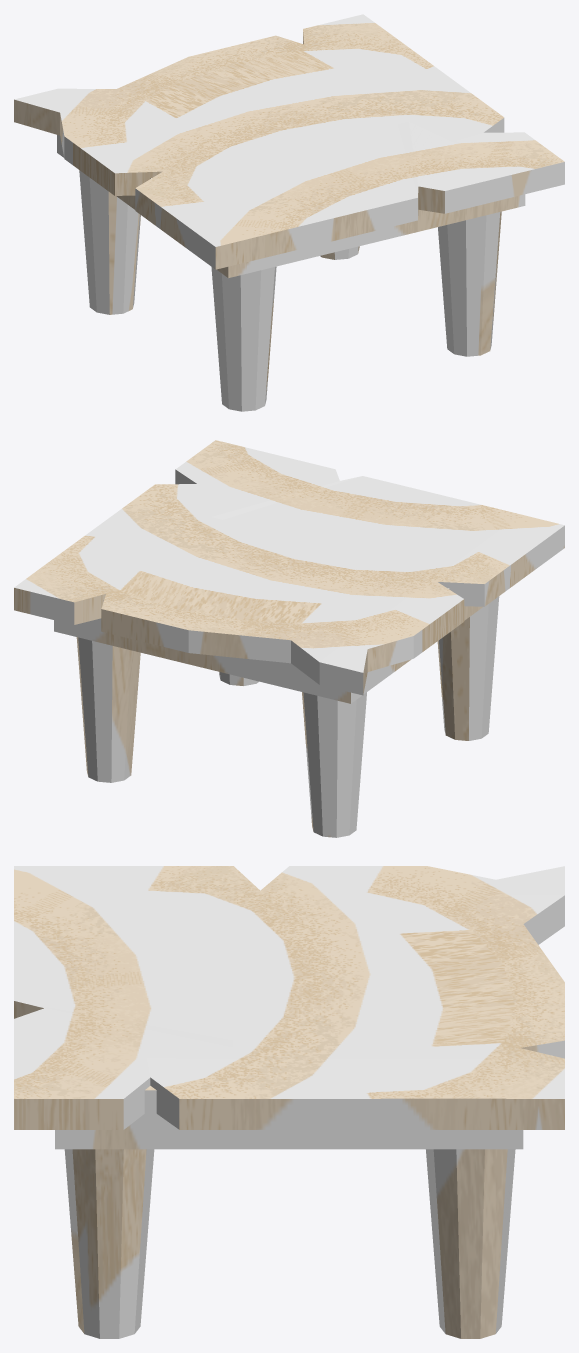
Rendered from COMEDOR.fbx.
The picture shows the model from 3 angles, top to bottom: view 1: azimuth 30°, elevation 25°; view 2: azimuth 150°, elevation 25°; view 3: azimuth 270°, elevation 25°; orthographic projection. The views are drawn at different scales.
Parts seen in each view (by area): view 1: COMEDOR.001; view 2: COMEDOR.001; view 3: COMEDOR.001.
Part boxes in pixels (bbox=[...]): COMEDOR.001: bbox=[14, 14, 564, 411]; COMEDOR.001: bbox=[14, 440, 564, 837]; COMEDOR.001: bbox=[14, 866, 564, 1338].
Bounding box in the file's own units: 139 × 74.78 × 139.
